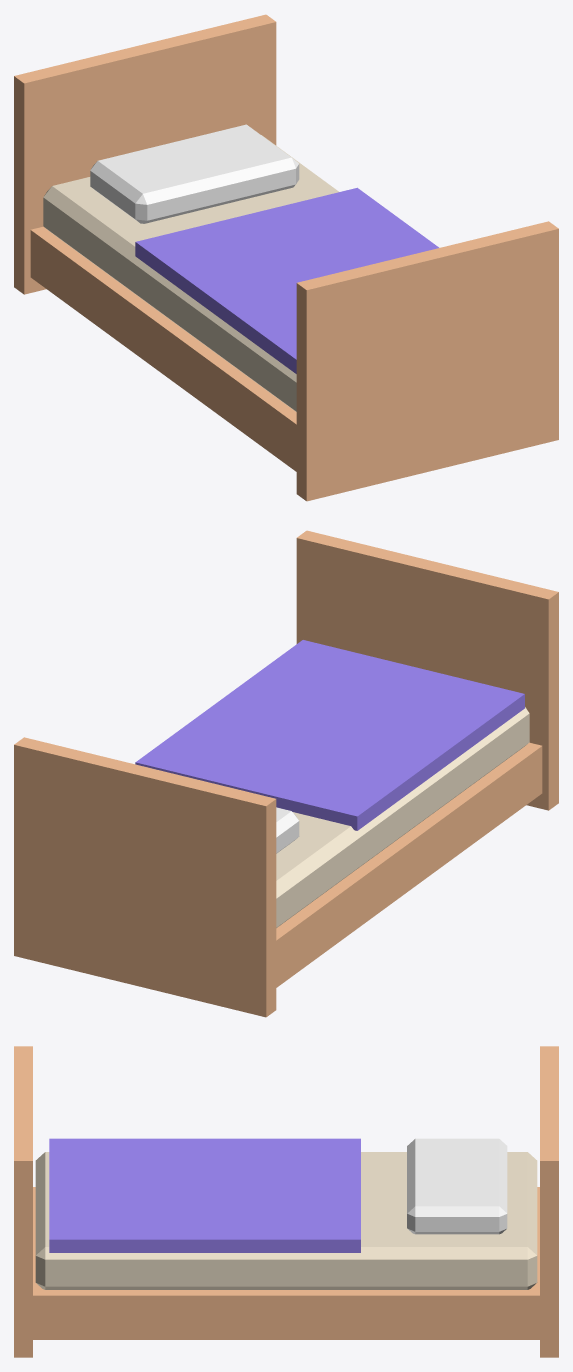
The picture shows the model from 3 angles, top to bottom: view 1: azimuth 30°, elevation 25°; view 2: azimuth 150°, elevation 25°; view 3: azimuth 270°, elevation 25°; orthographic projection. The views are drawn at different scales.
Parts seen in each view (by area): view 1: End board, End board.001, Blanket, Mattress, Frame, Pillow; view 2: End board.001, Blanket, End board, Frame, Mattress, Pillow; view 3: Blanket, Mattress, Frame, Pillow, End board, End board.001.
Part boxes in pixels (x1,y1,x2,y2): End board: (296,221,558,501); End board.001: (14,14,276,294); Blanket: (135,187,439,373); Mattress: (43,135,338,411); Frame: (30,226,296,471); Pillow: (90,124,299,223); End board.001: (14,737,276,1017); Blanket: (135,640,524,830); End board: (296,530,558,810); Frame: (276,742,542,987); Mattress: (276,707,529,927); Pillow: (276,807,299,853); Blanket: (49,1138,360,1252); Mattress: (35,1152,537,1289); Frame: (33,1187,539,1339); Pillow: (407,1138,507,1234); End board: (14,1046,32,1357); End board.001: (540,1046,558,1357).
Bounding box in the file's own units: 1 × 0.8 × 2.01.
Materials: 1 (1 with a texture image).
